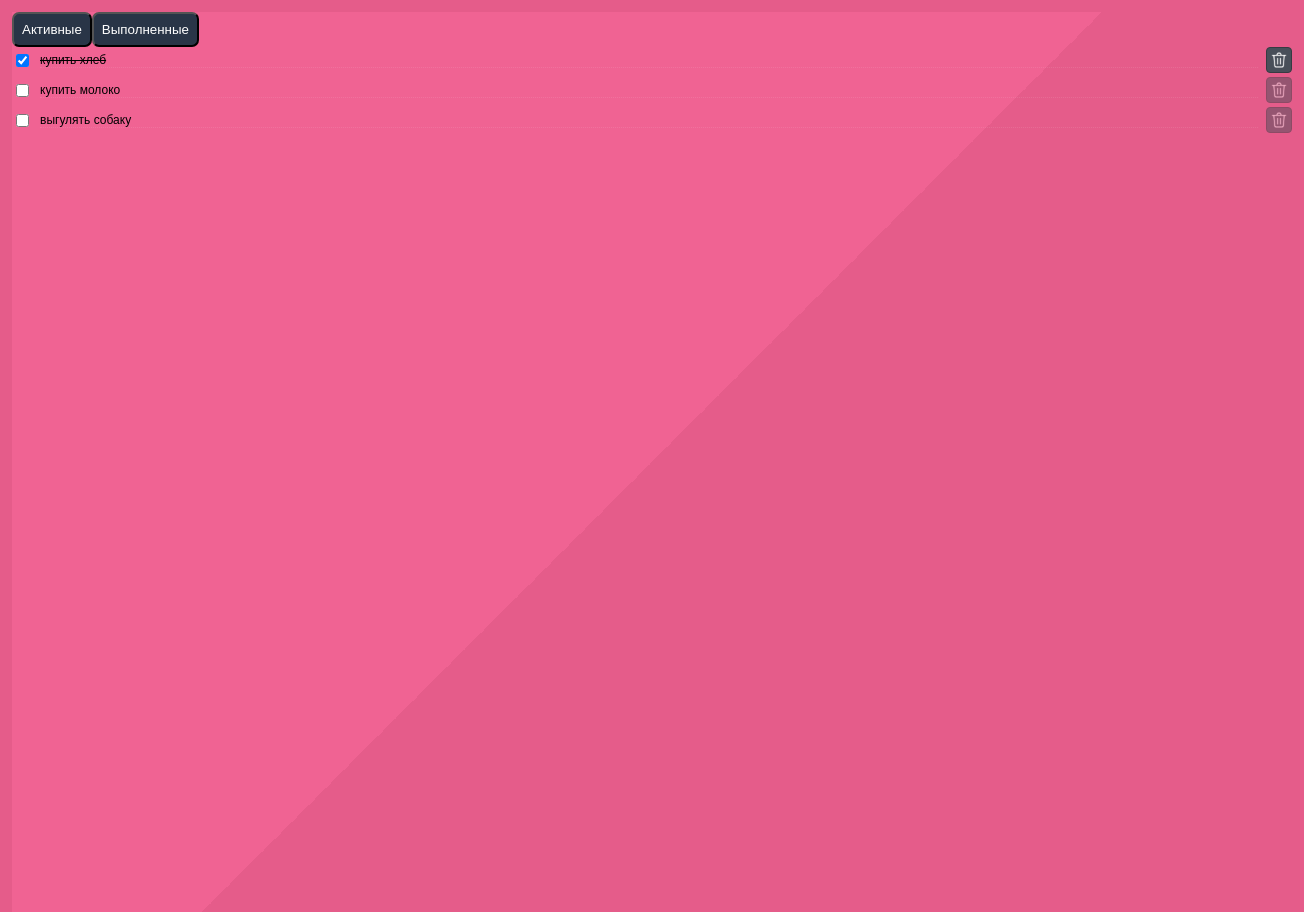
Test: Список задач › с выключенным фильтром по активным
Click the button "Активные": (52, 30) left=12, top=12, right=92, bottom=47
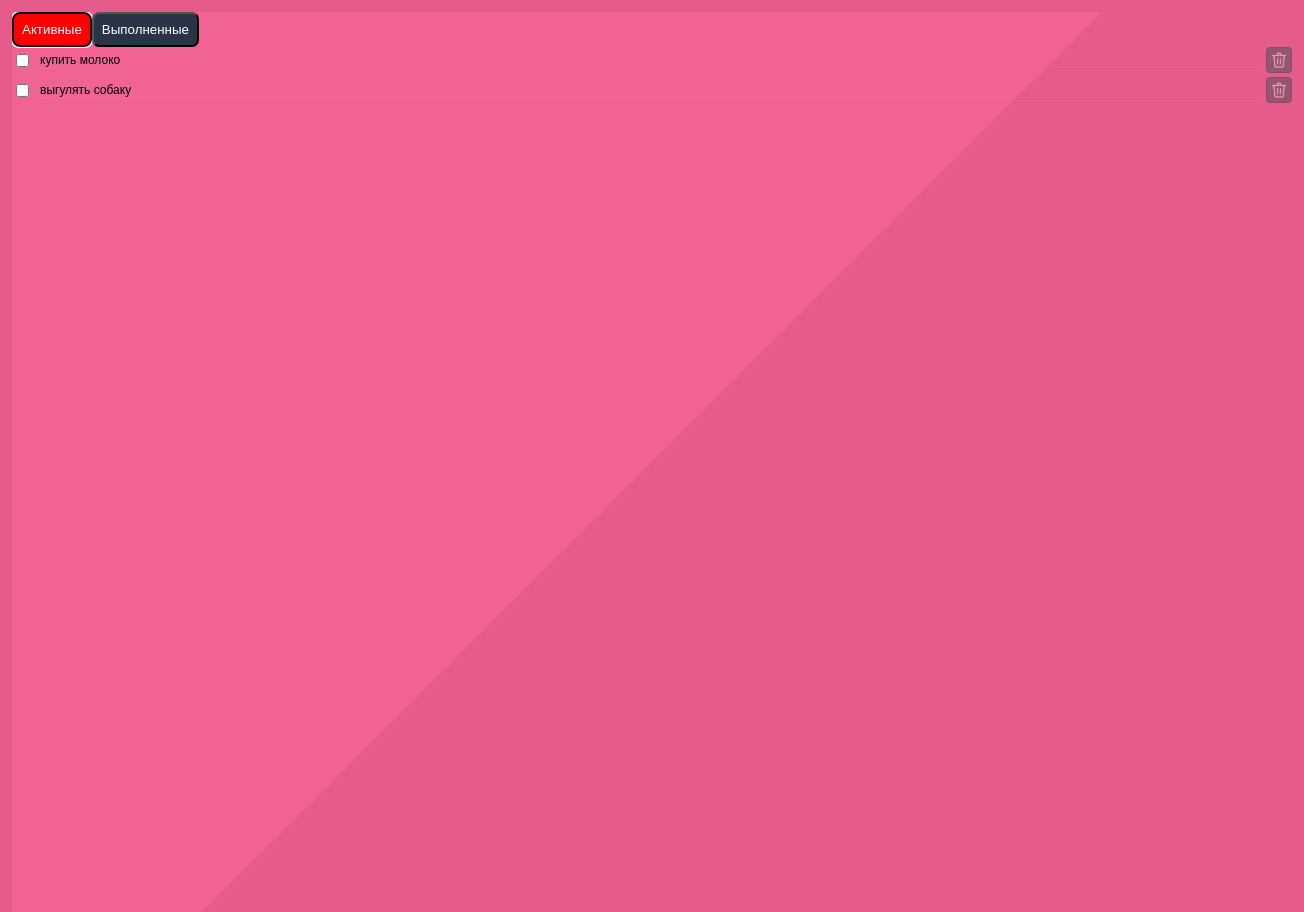
Click the button "Активные": (52, 30) left=12, top=12, right=92, bottom=47
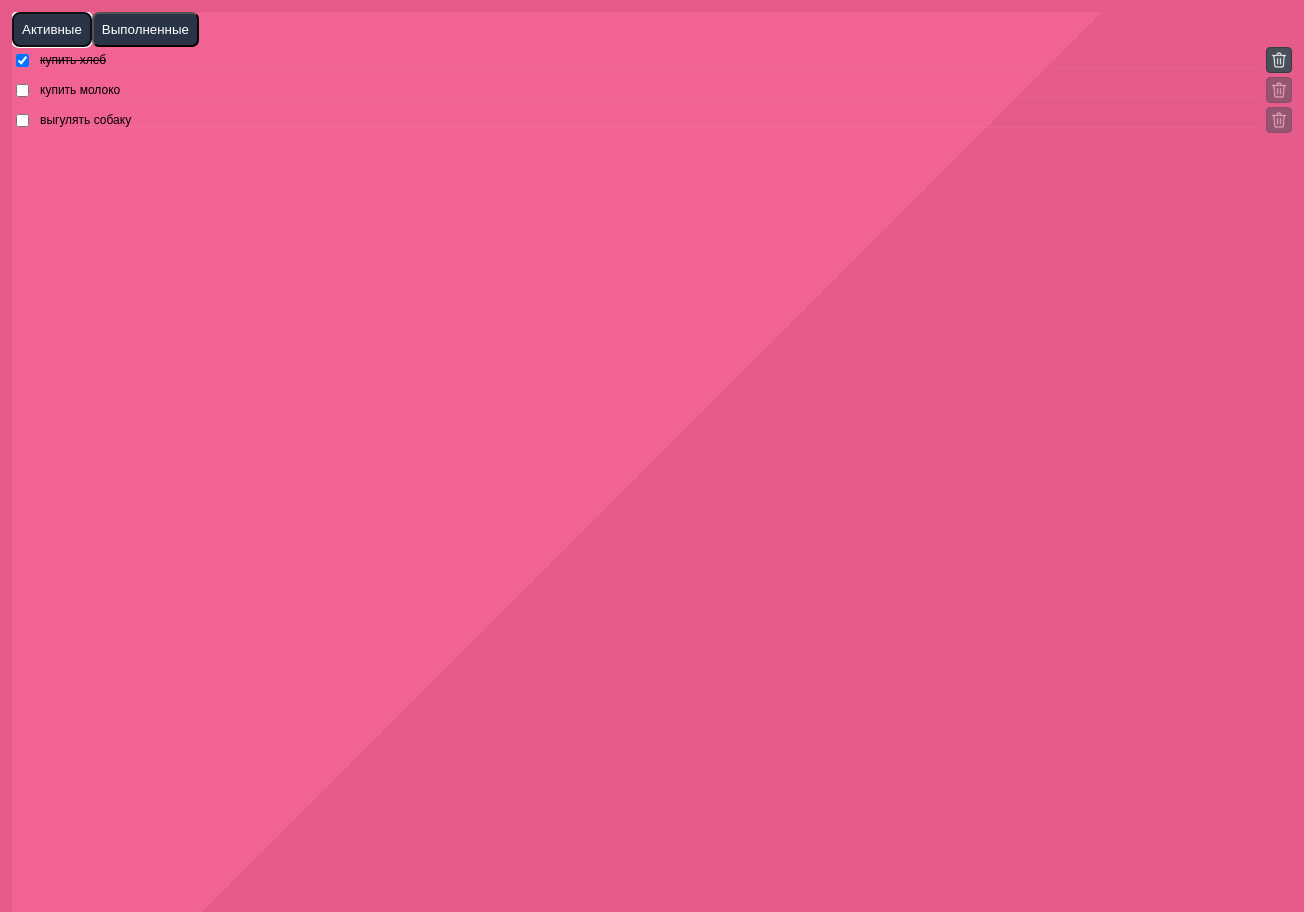
Check: the number of checkboxes is 3, box left=16, top=54, right=29, bottom=66; left=16, top=84, right=29, bottom=96; left=16, top=114, right=29, bottom=126
